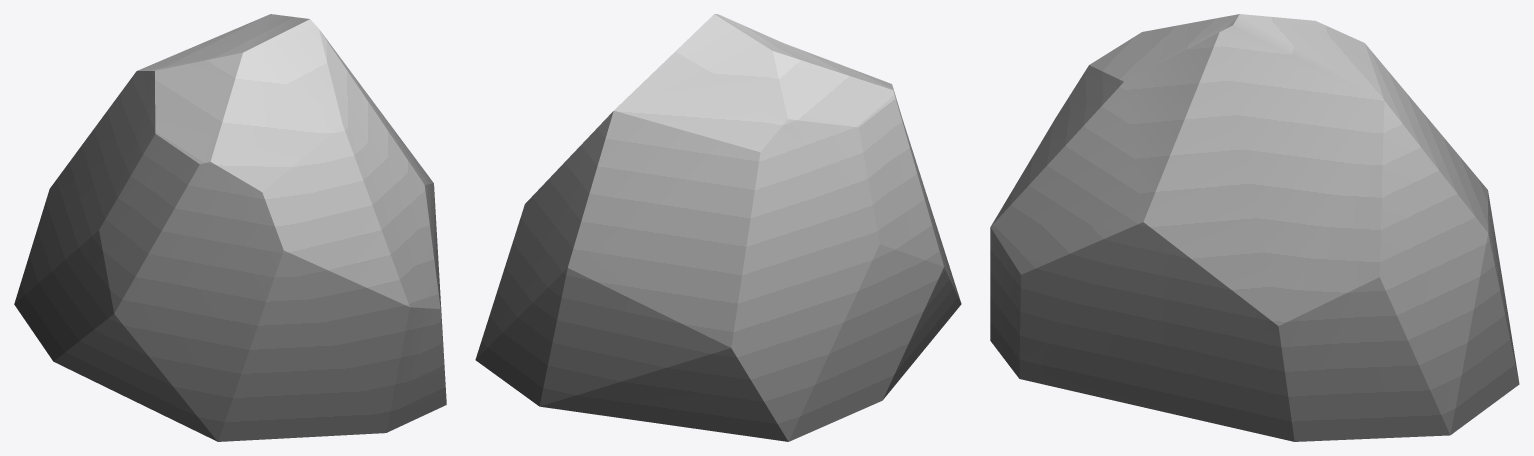
File: stone_2.glb
The picture shows the model from 3 angles, left to right: view 1: azimuth 30°, elevation 25°; view 2: azimuth 150°, elevation 25°; view 3: azimuth 270°, elevation 25°; orthographic projection. The views are drawn at different scales.
Visible parts, largest first — view 1: stone 2; view 2: stone 2; view 3: stone 2.
Part boxes in pixels (left/top/right/bottom): stone 2: left=14, top=14, right=446, bottom=441; stone 2: left=475, top=14, right=961, bottom=441; stone 2: left=990, top=14, right=1519, bottom=441.
Bounding box in the file's own units: 0.7229 × 0.5884 × 0.8404.
1 material, 1 textured.
